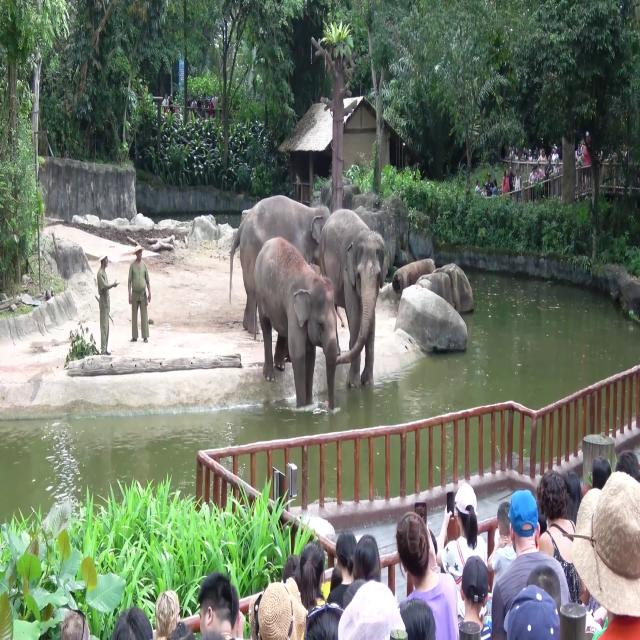Elephant: (228, 194, 331, 341), (254, 236, 340, 410), (318, 208, 387, 388)
person: (128, 244, 151, 343), (97, 254, 118, 356)
